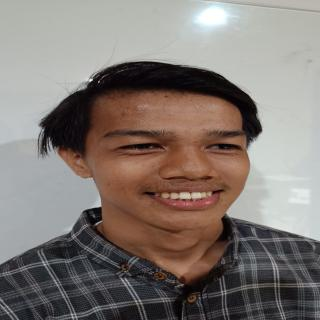Senang: (85, 82, 274, 237)
